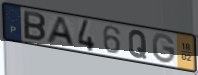4: (77, 18, 96, 54)
6: (101, 25, 122, 56)
A: (45, 16, 77, 49)
B: (23, 9, 47, 44)
G: (151, 32, 177, 66)
Q: (128, 29, 148, 61)
